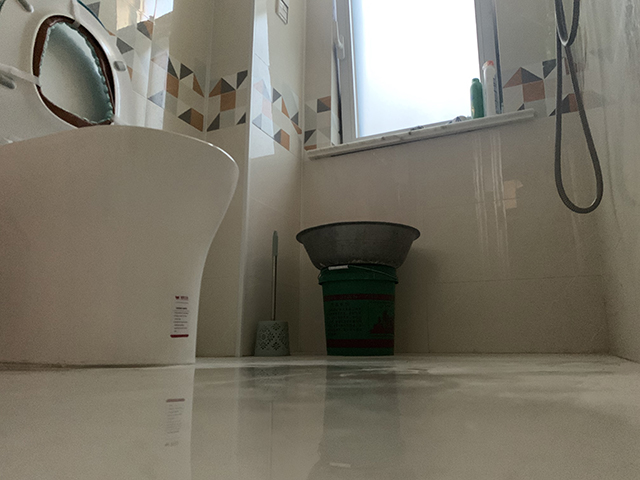closestool: (1, 1, 240, 368)
